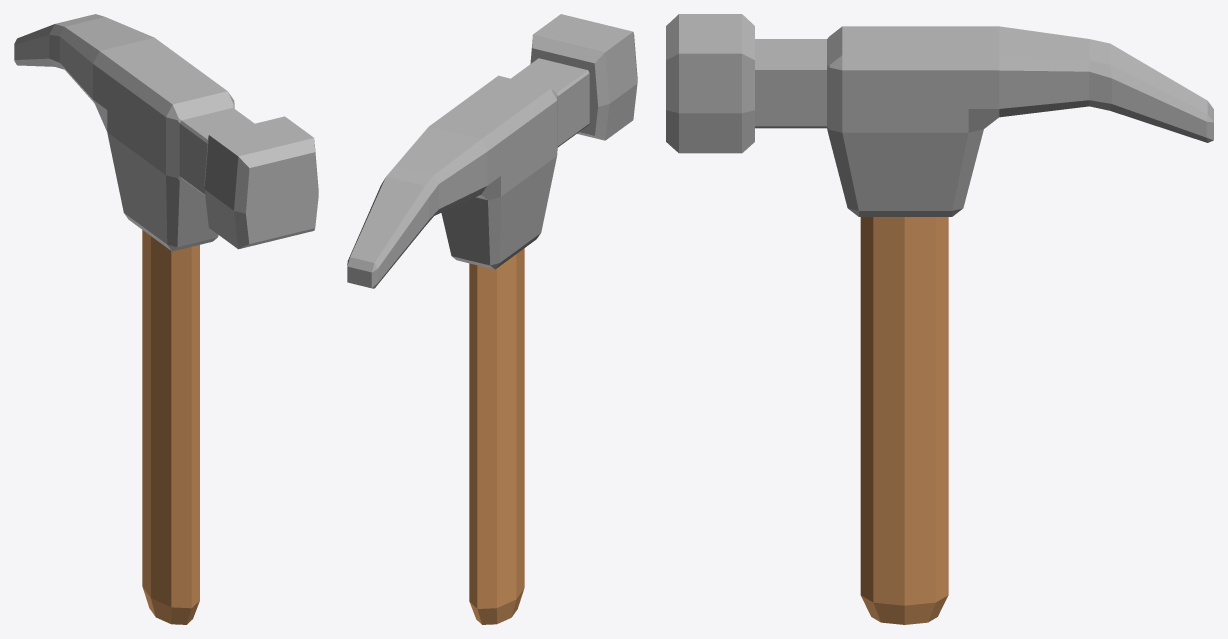
The model's file is Hammer.fbx.
3 renders of one model, left to right at view 1: azimuth 30°, elevation 25°; view 2: azimuth 150°, elevation 25°; view 3: azimuth 270°, elevation 25°, orthographic. The views are drawn at different scales.
Visible parts, largest first — view 1: Hammer; view 2: Hammer; view 3: Hammer.
Boxes of the visible parts, left/top/right/bottom form: Hammer: left=14, top=14, right=318, bottom=624; Hammer: left=347, top=14, right=637, bottom=624; Hammer: left=666, top=14, right=1213, bottom=624.
Size of the model in its own units: 8.08 by 49.58 by 42.21.
